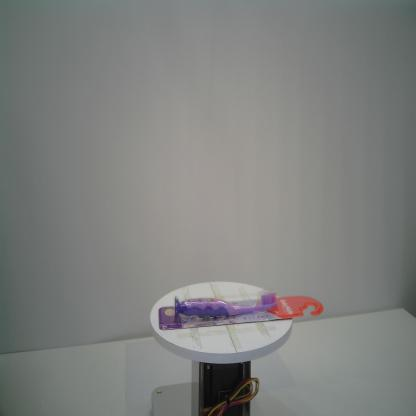Personal Hygiene: (158, 288, 324, 330)
